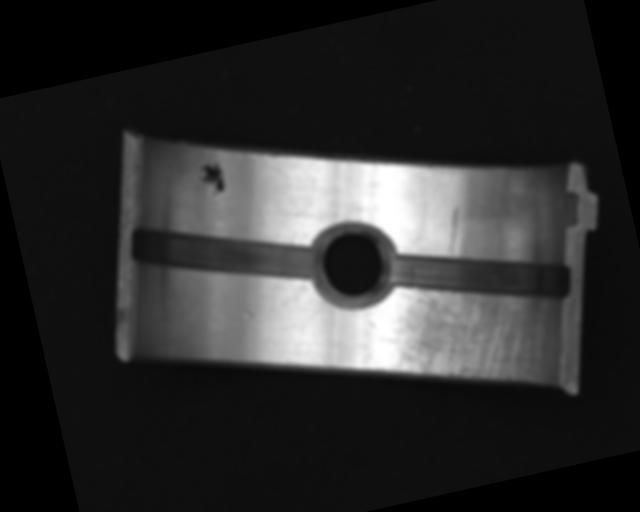blot: (193, 154, 228, 199)
bruise: (240, 309, 256, 320)
gap: (126, 188, 325, 317), (385, 217, 575, 335)
hole: (304, 218, 403, 315)
nick: (439, 204, 471, 259), (297, 298, 334, 329)
scratch: (370, 261, 563, 419)
